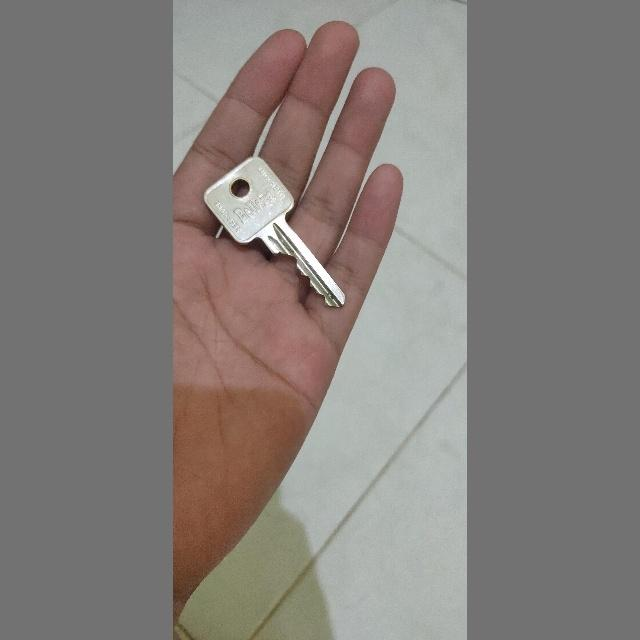Keys: (205, 152, 352, 312)
